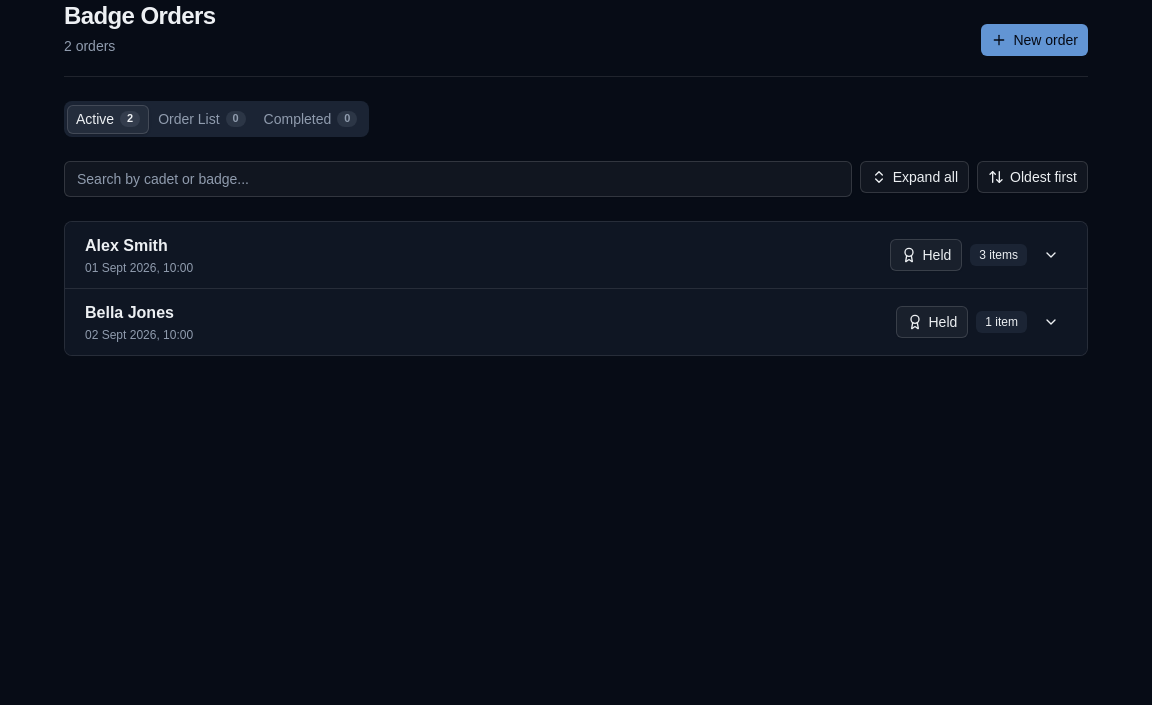
Test: search › searching a cadet's name shows their whole order
This screenshot has width=1152, height=705.
Expected: the link "Alex Smith" is shown, [85,234,168,258]
Type "smith" into the field labelled "Search by cadet or badge".
click(458, 179); type("smith")  # box [64,161,852,197]
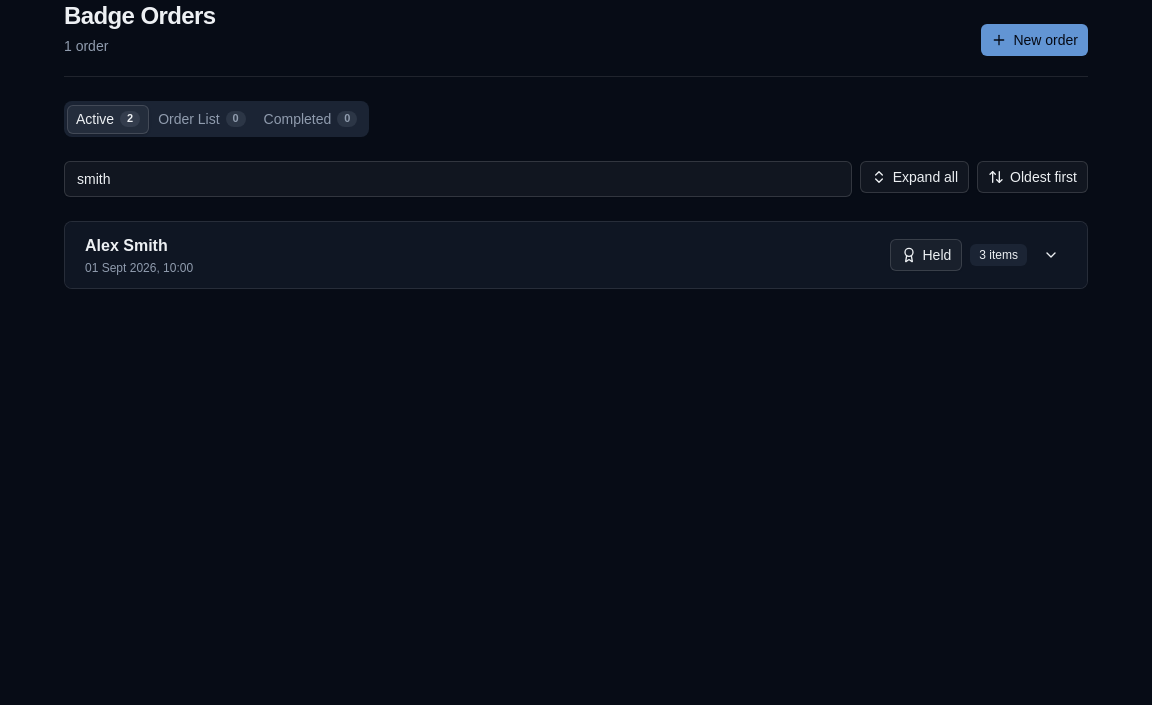
Now the link "Bella Jones" is gone
Click the button named "Expand order for Alex Smith".
click(1051, 255)  # box [1035,239,1067,271]
(page scrolled)
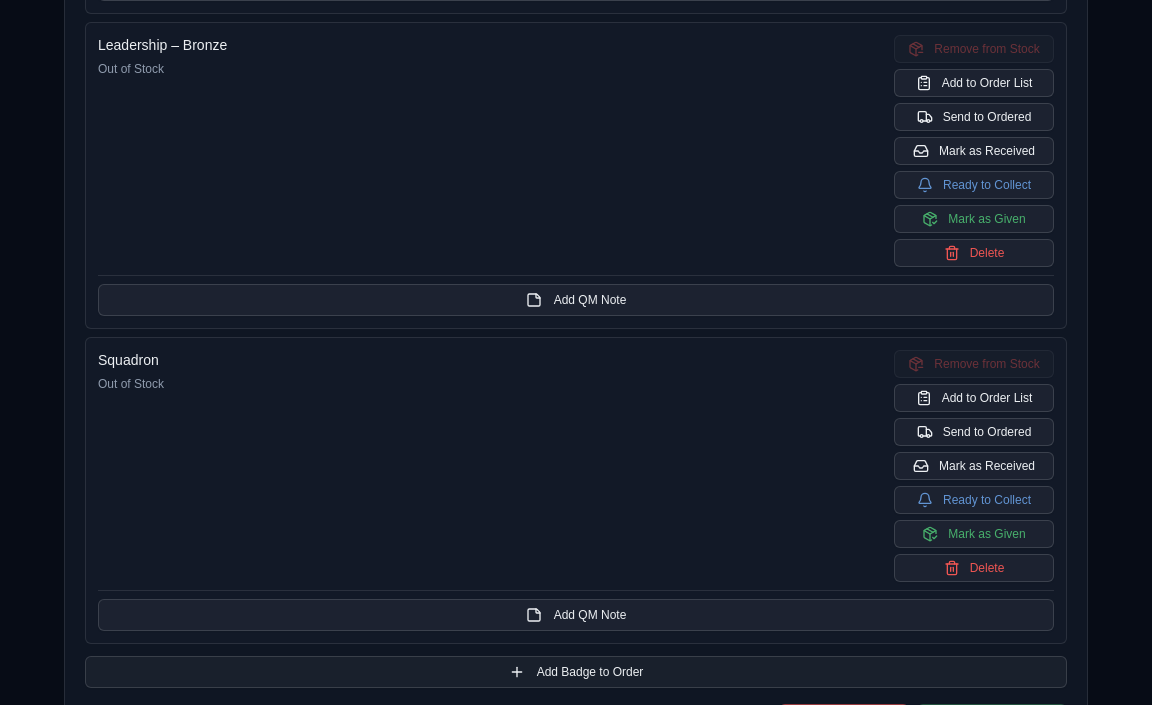
Now the text "Leadership – Bronze" is shown, box [98,37,227,53]
Now the text "Squadron" is shown, box [98,352,159,368]
